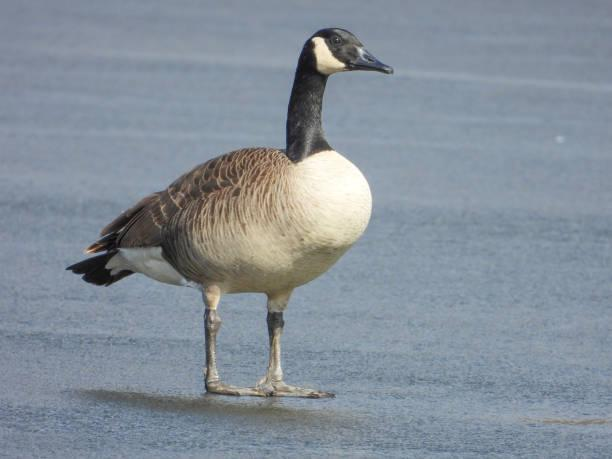Canadian-Goose: (74, 24, 398, 402)
